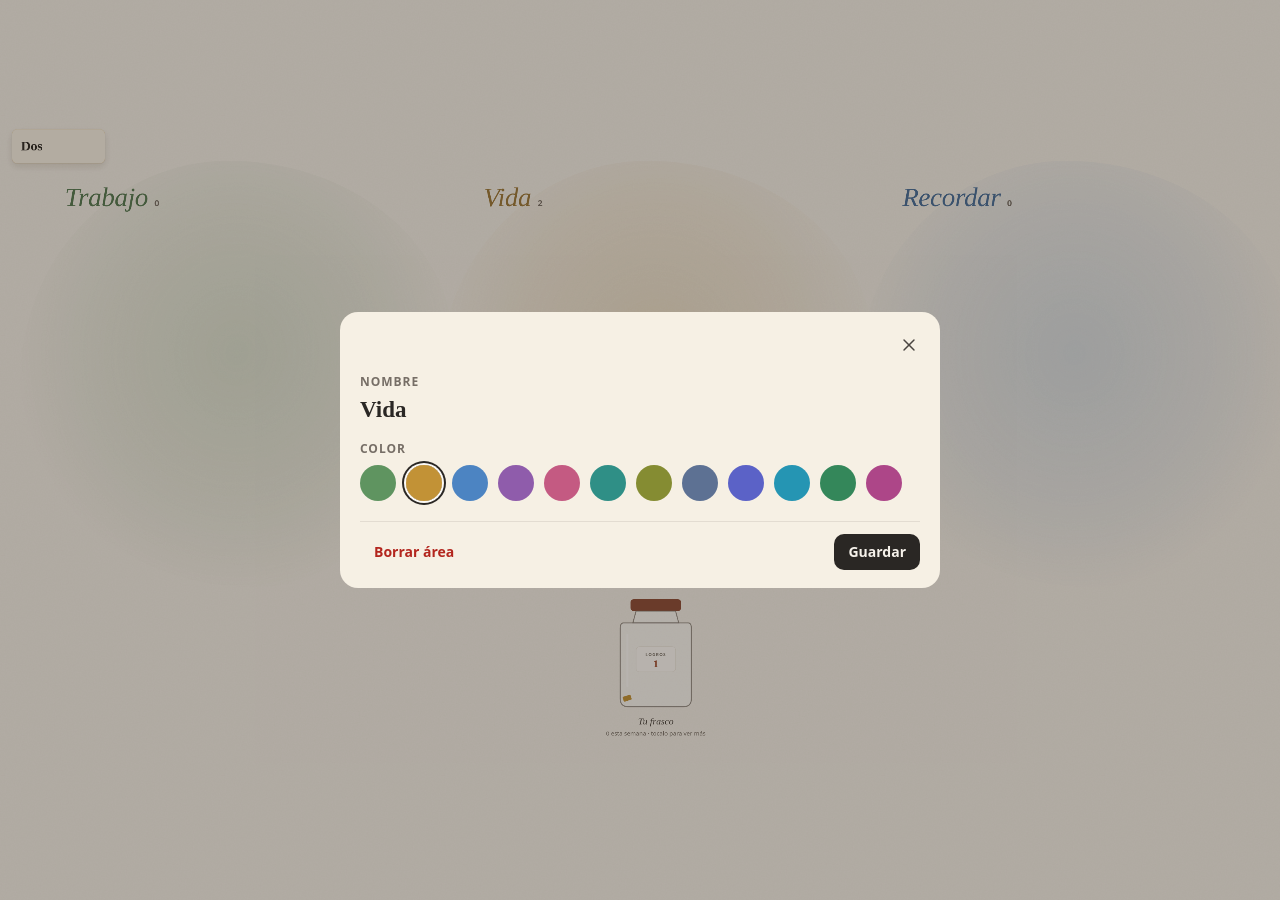
it: AreaEditor › delete › asks where the Cards go, nearest Area first, and moves them to the chosen one
Click the button "Borrar área". click: (414,552)
box: [360,534,468,570]
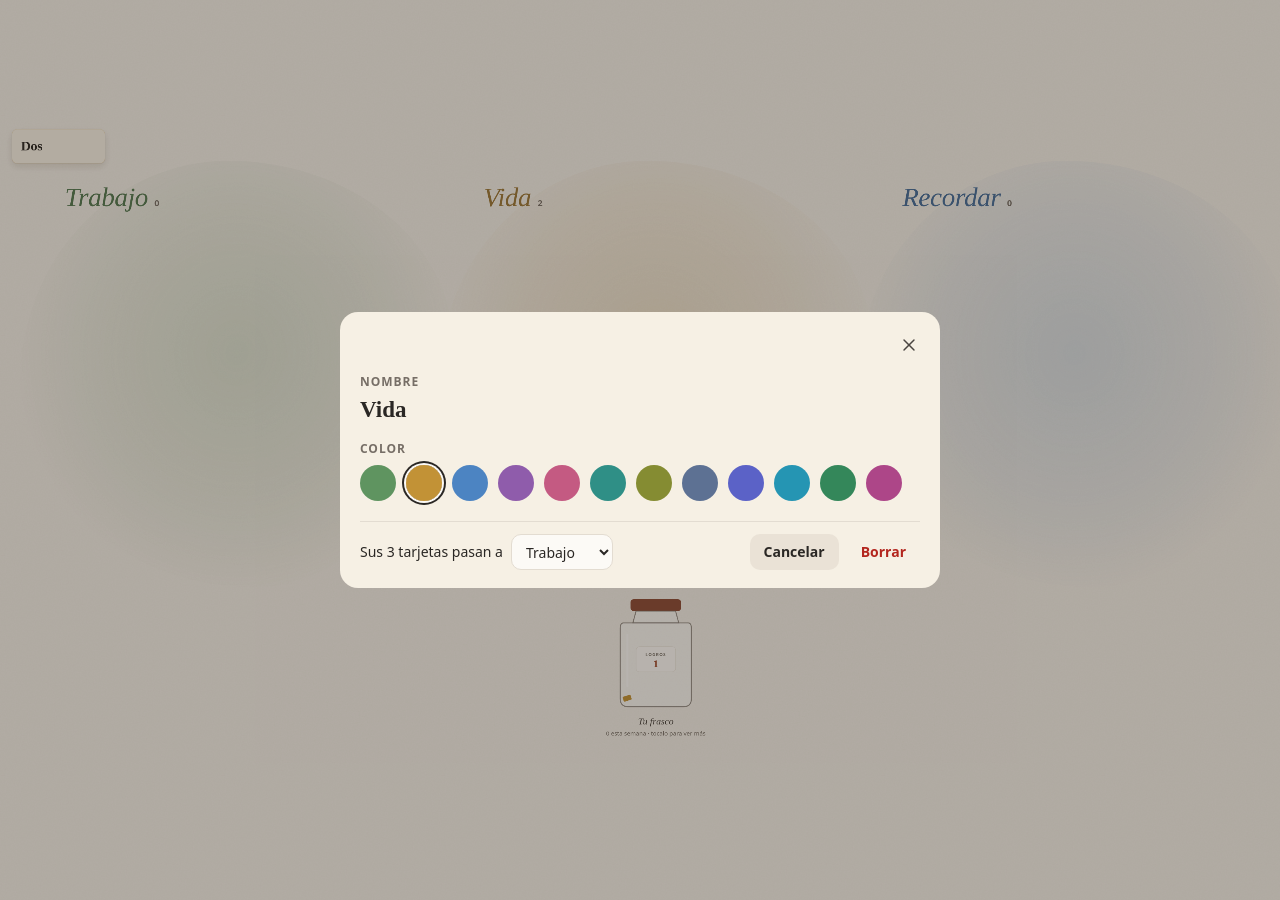
Now the dropdown labelled "Sus 3 tarjetas pasan a" shows "Trabajo"
Select "Recordar" in the dropdown labelled "Sus 3 tarjetas pasan a". click: (562,552)
box: [511,534,613,570]
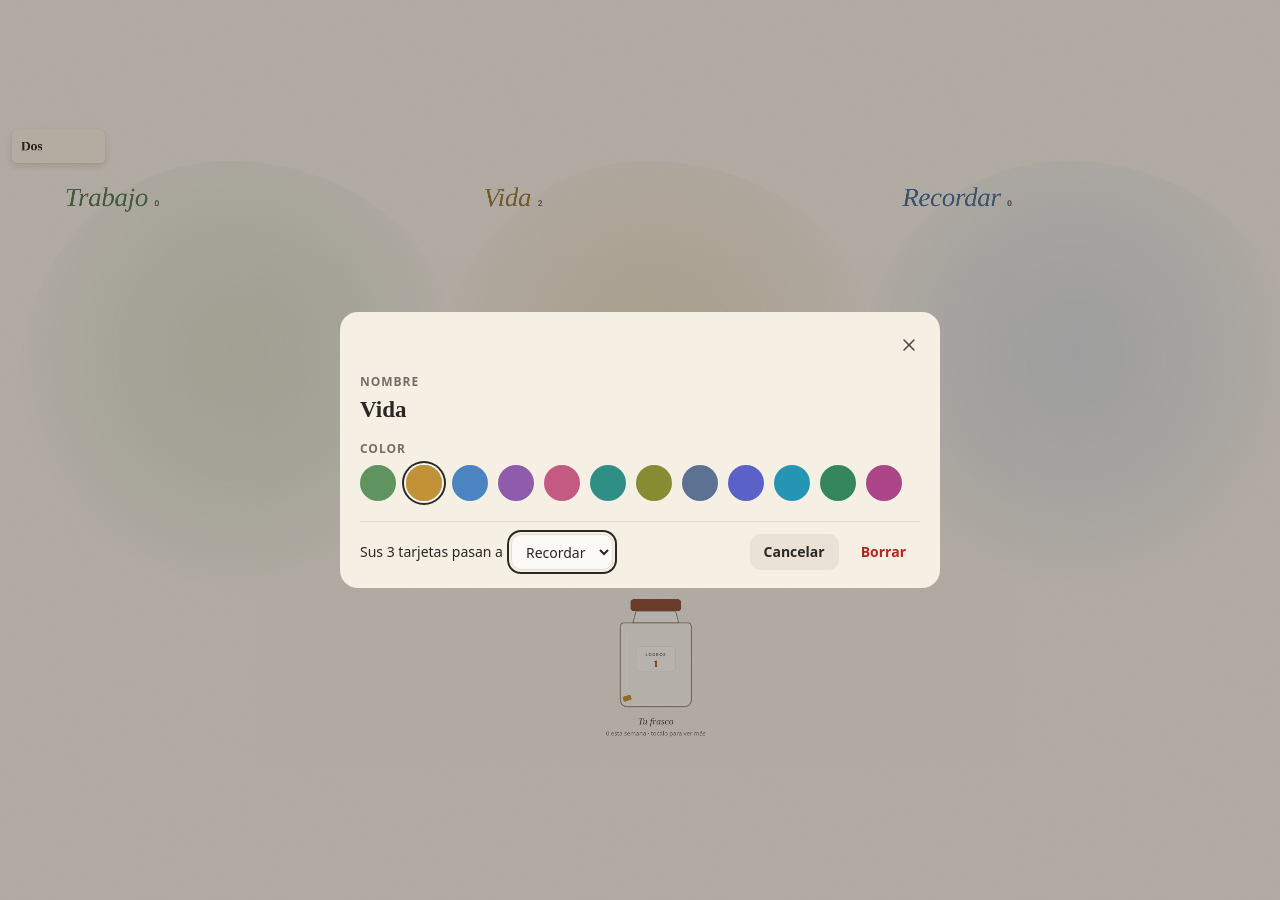
Click the button "Borrar". click: (883,552)
box: [847,534,920,570]
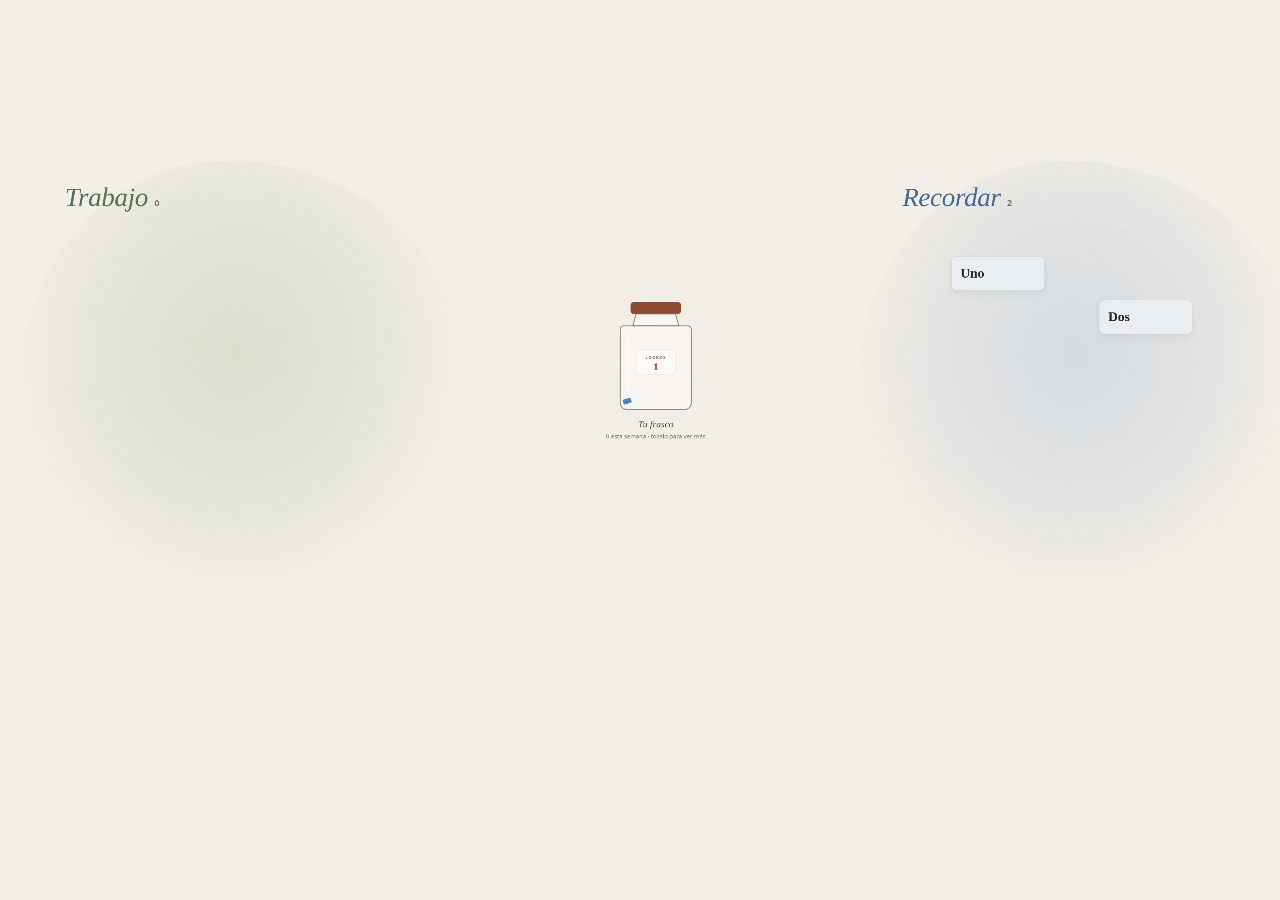
Now the dialog is gone
